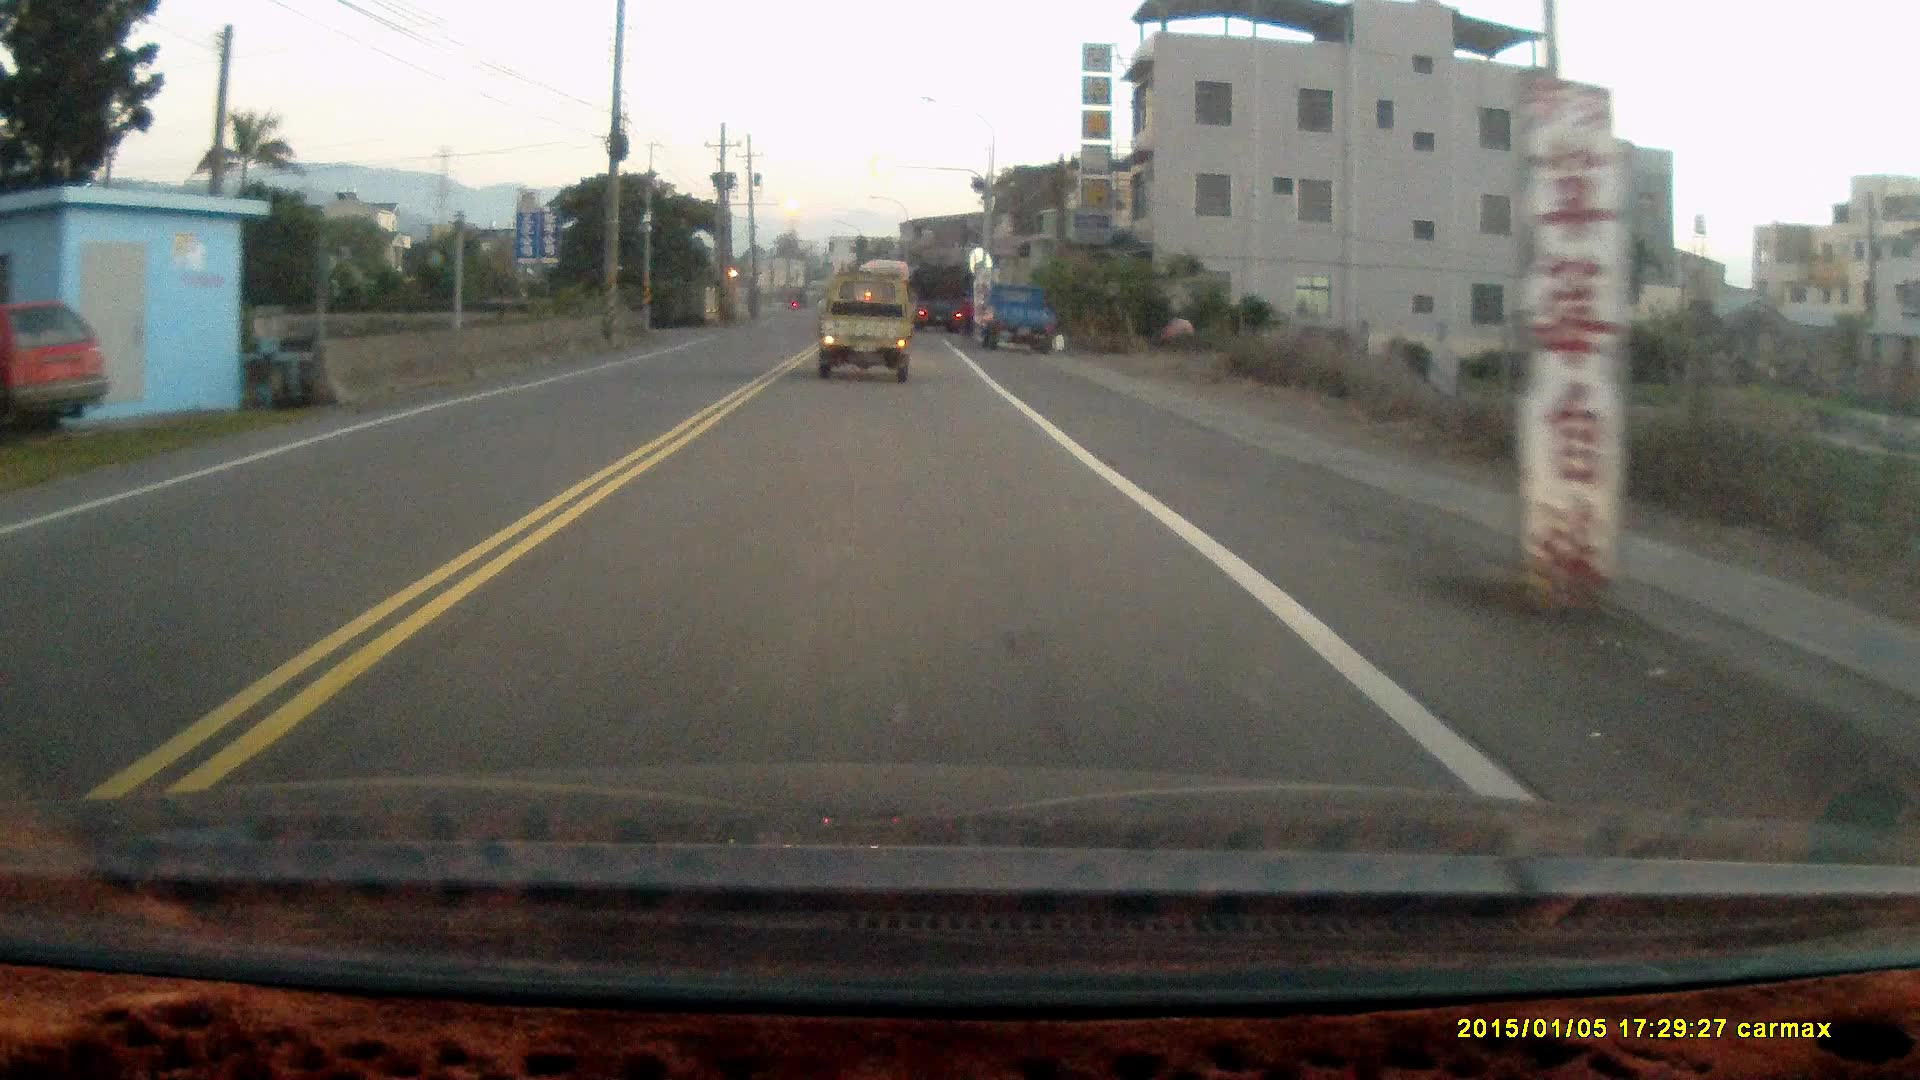vehicle: (1, 301, 108, 435), (814, 276, 916, 381), (973, 282, 1064, 360), (909, 264, 977, 334)
